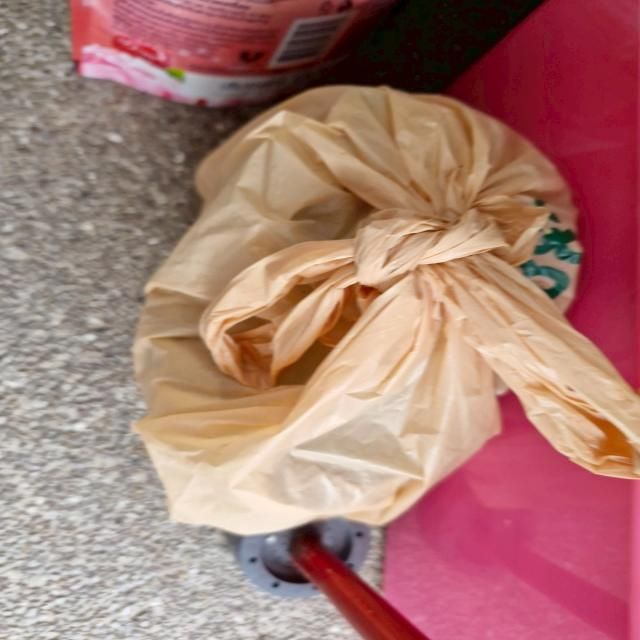plastic bag: (120, 85, 640, 536)
